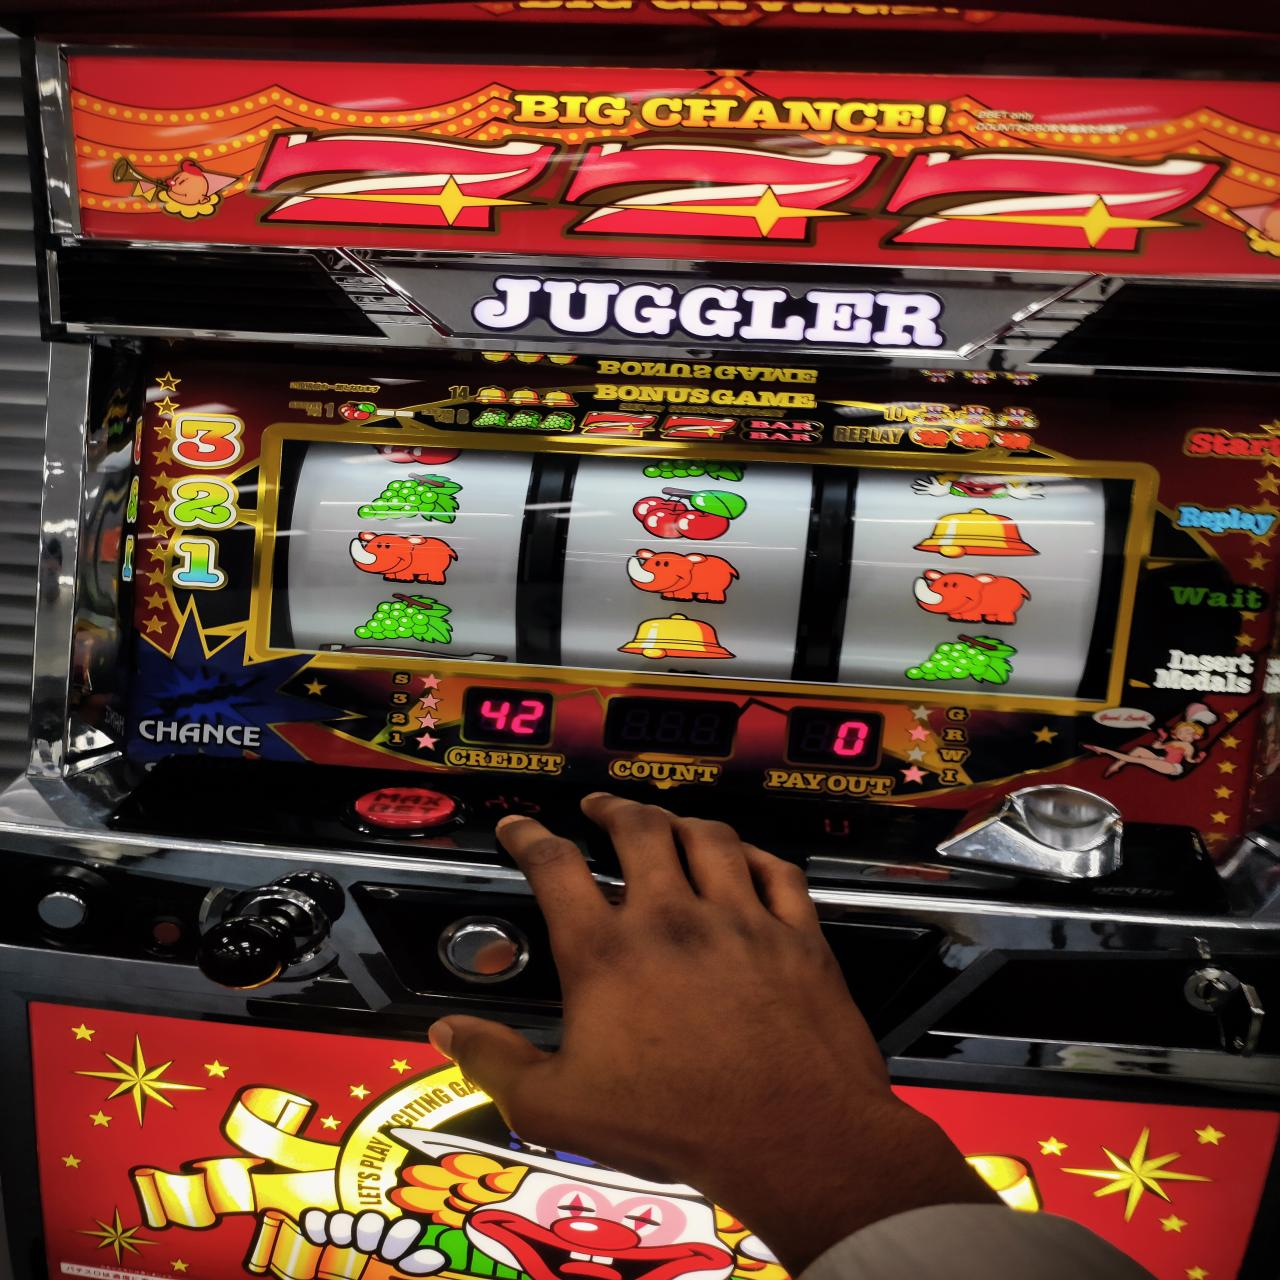8: (622, 550, 742, 608), (914, 566, 1030, 626), (349, 531, 462, 585)
Display: (275, 435, 1107, 712)
bell: (910, 508, 1046, 558), (619, 612, 737, 661)
cherry: (632, 484, 748, 542)
grape: (908, 631, 1019, 685), (354, 470, 462, 524), (355, 590, 457, 645)
